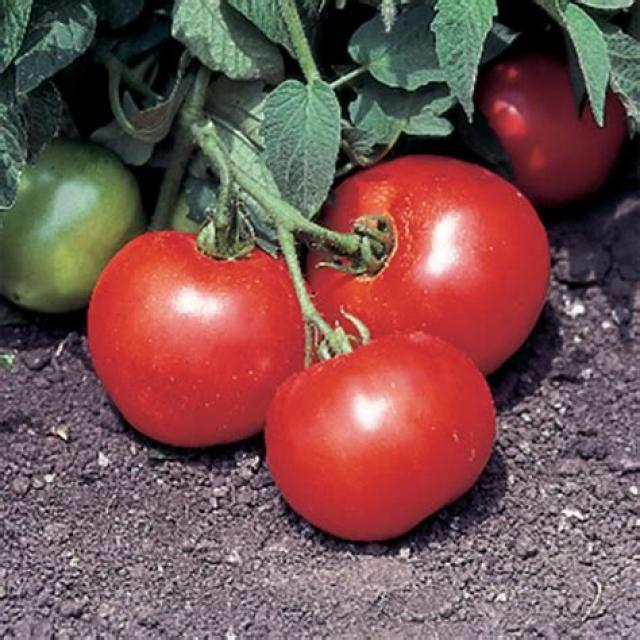Tomato: (303, 155, 551, 377), (263, 332, 498, 545), (86, 231, 308, 451)
